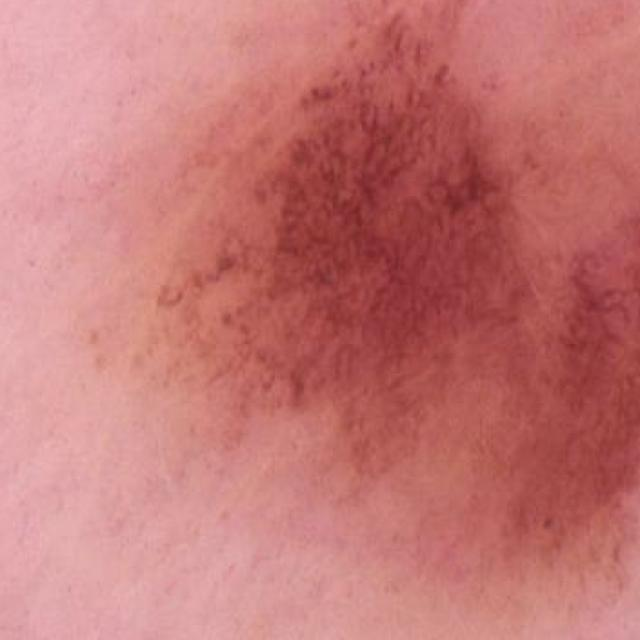NV: (151, 0, 640, 634)
